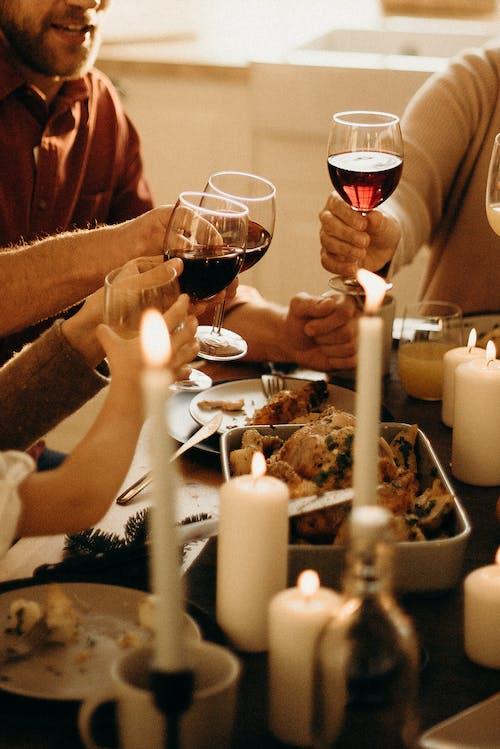alcohol: (160, 190, 251, 394), (187, 168, 278, 362), (325, 109, 406, 296)
knife: (113, 411, 224, 510)
